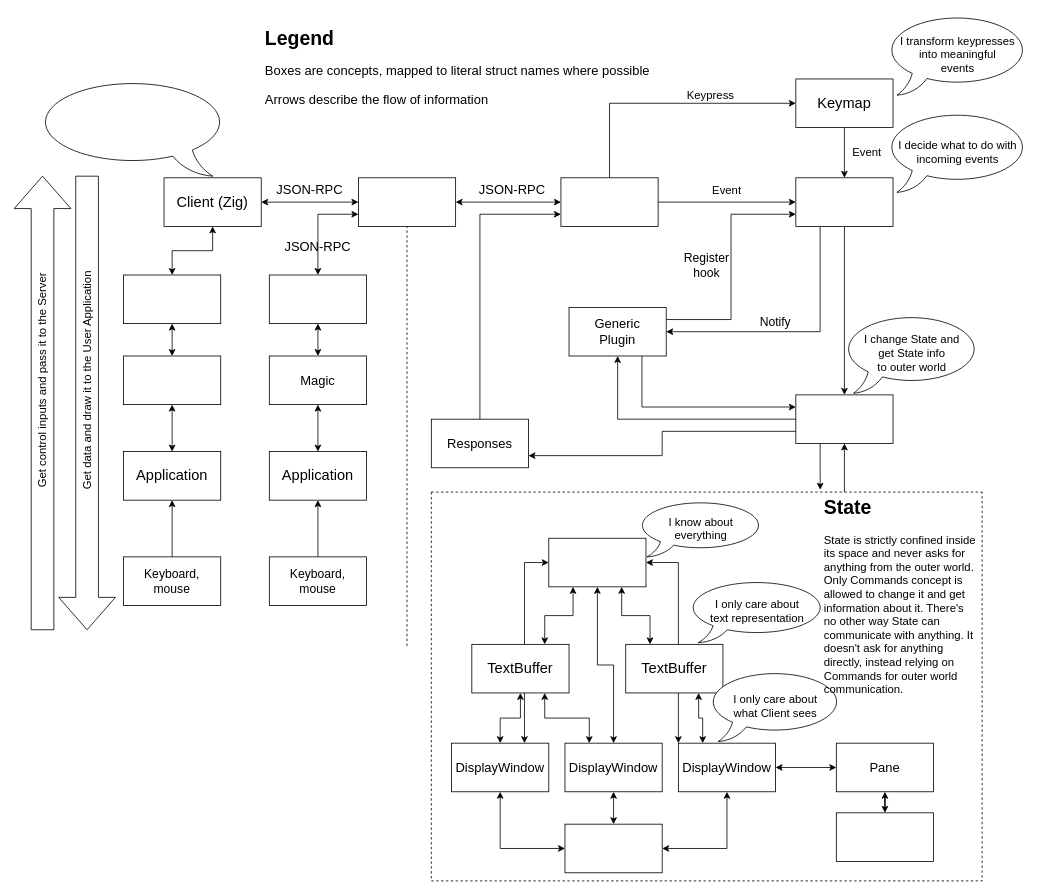
Image size: 1045x895. Some labels were removed from this diagram. The shapes that lost their labels are listed below. From the top down, each one's centre as x and y in pixels, then its label:
At (131,127): "I only transmit key presses and draw on the screen what Server tells me to".
At (407,201): "Transport".
At (609,201): "Server".
At (844,201): "EventDispatcher".
At (172,299): "UI (general interface)".
At (318,299): "Client (Any)".
At (172,380): "ncurses, GTK, SDL etc... (implementation)".
At (844,418): "Commands".
At (597,562): "Workspace".
At (613,848): "Syntax Highlighter".
At (885,836): "Tab".
